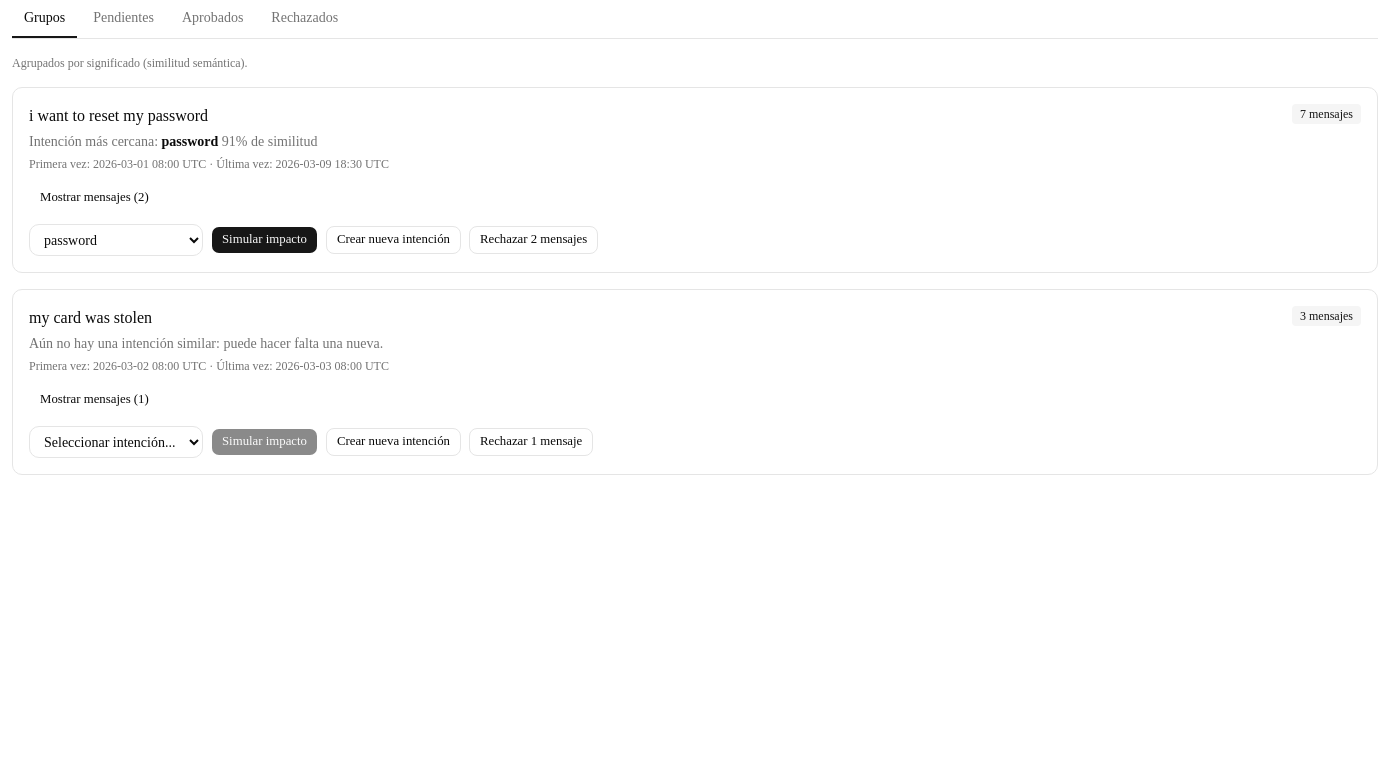
Test: ReviewClusters: listing › expands the member list with occurrences
This screenshot has width=1378, height=768.
What coordinates should you click on to do the following:
click the button "Mostrar mensajes (2)"
I would click on:
 (94, 198)
Its box is 29,184 -> 160,212.
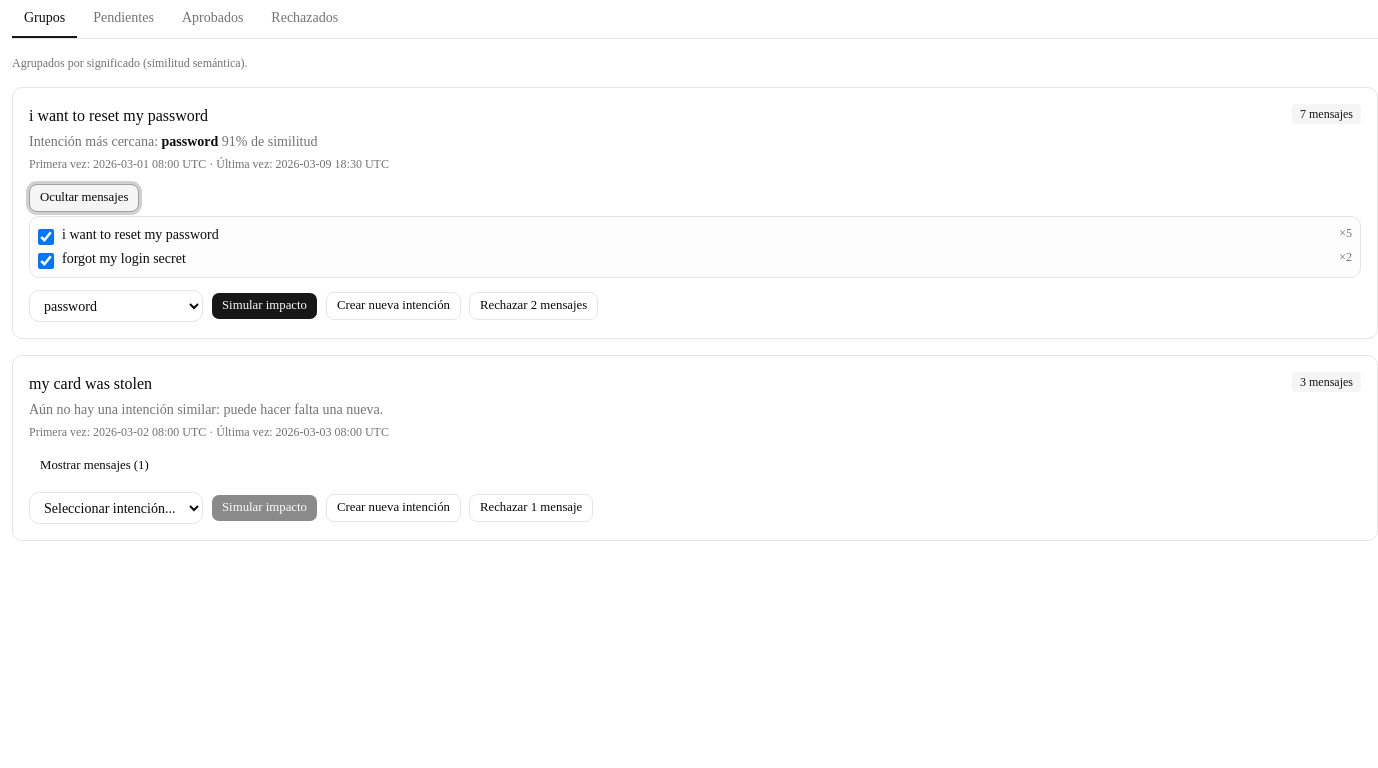
Result: the button named "mostrar mensajes" is expanded at 29,184 -> 140,212
Result: the text "forgot my login secret" is shown at 62,249 -> 186,269
Result: the checkbox labelled "forgot my login secret ×2" is checked at 38,253 -> 54,269
